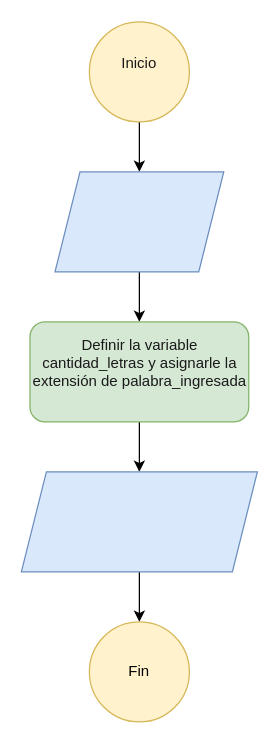
The diagram is 280 pixels wide and 744 high, and some of its shapes have lost their labels. The centre of each missing label's shape, as x and y in pixels:
Mostrar mensaje: "Ingrese una palabra.": (x=139, y=221)
Mostrar mensaje: "La palabra ingresada tiene ", cantidad_letras, "letras.": (x=138, y=521)
